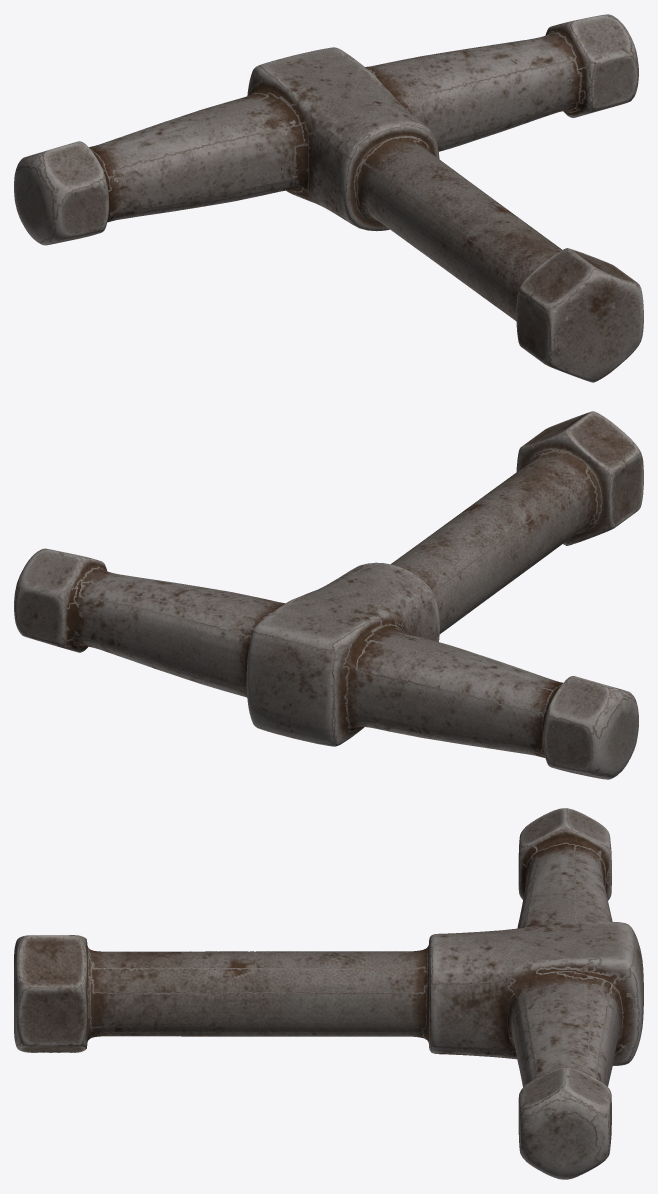
3 views of the same model, one above another, from view 1: azimuth 30°, elevation 25°; view 2: azimuth 150°, elevation 25°; view 3: azimuth 270°, elevation 25° (orthographic).
Bounding box in the file's own units: 1.57 × 0.2946 × 1.43.
1 material, 1 textured.
